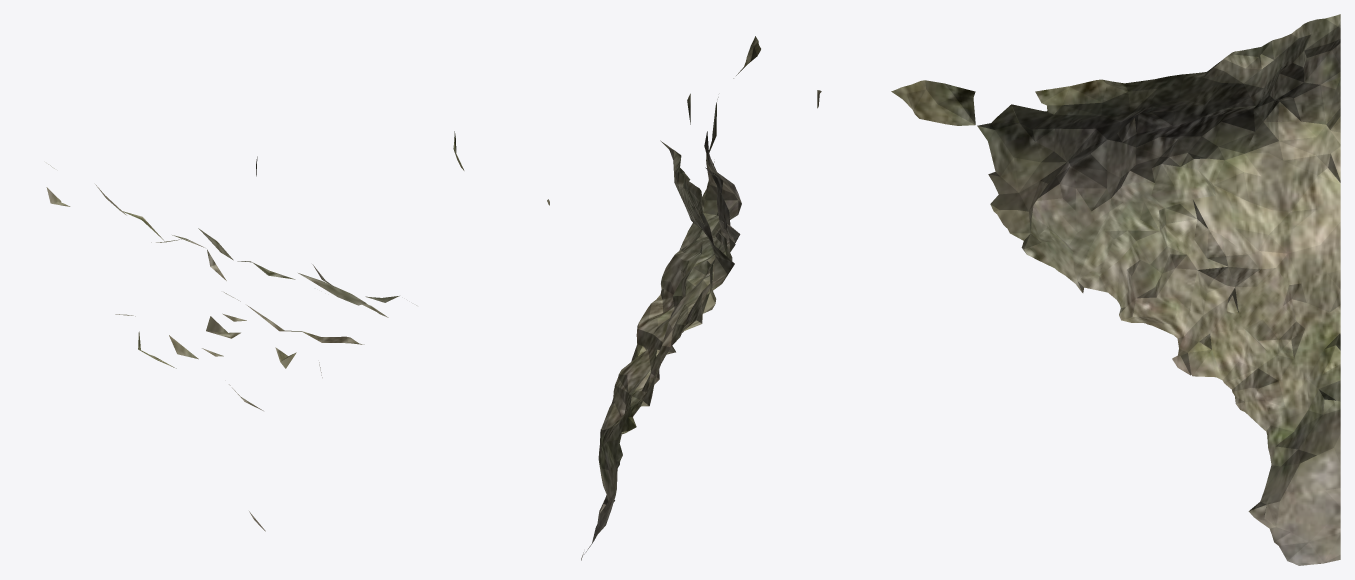
The picture shows the model from 3 angles, left to right: view 1: azimuth 30°, elevation 25°; view 2: azimuth 150°, elevation 25°; view 3: azimuth 270°, elevation 25°; orthographic projection. The views are drawn at different scales.
Bounding box in the file's own units: 1.15 × 2.95 × 2.95.
2 materials, 2 textured.
